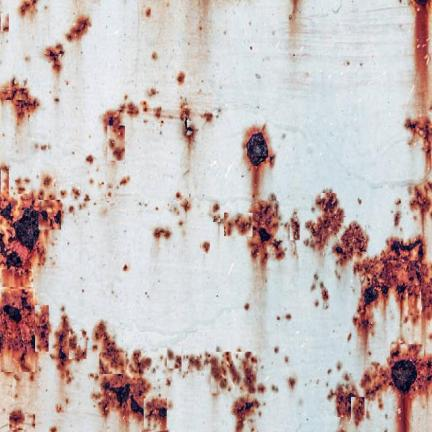karat: (354, 237, 431, 334), (361, 343, 431, 431), (94, 322, 151, 421), (0, 194, 61, 268), (0, 288, 49, 371), (248, 195, 284, 264), (51, 314, 87, 383), (243, 126, 274, 202), (306, 190, 344, 250), (103, 100, 139, 160), (206, 352, 257, 393), (413, 0, 429, 115), (0, 78, 39, 124), (333, 222, 369, 265), (328, 381, 364, 424), (405, 117, 431, 171), (410, 181, 431, 230), (232, 397, 259, 431), (180, 100, 197, 151), (145, 398, 168, 432), (246, 132, 268, 166), (224, 213, 252, 236), (66, 16, 91, 41), (45, 44, 64, 73), (352, 397, 365, 425), (166, 348, 182, 370), (9, 410, 24, 430), (19, 0, 37, 16), (290, 212, 300, 240), (320, 283, 329, 309), (154, 228, 171, 240), (394, 211, 401, 227), (202, 112, 213, 122), (288, 377, 296, 390), (202, 241, 210, 253), (177, 72, 184, 85), (86, 154, 94, 164), (145, 8, 151, 18)
